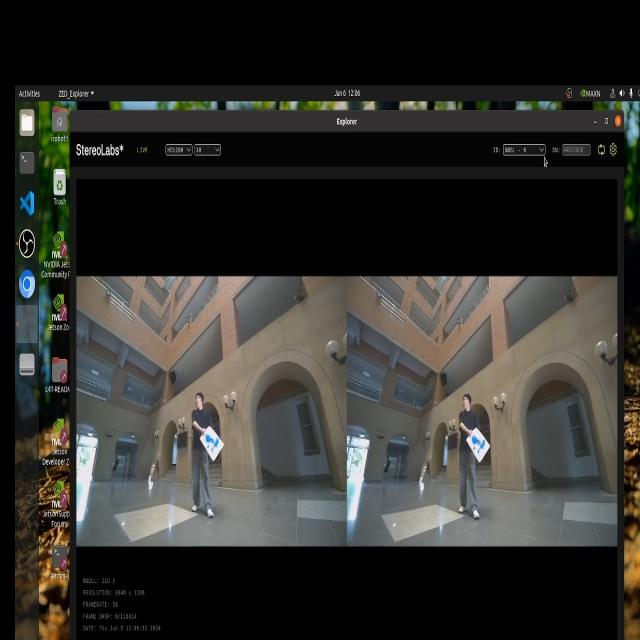blue: (202, 422, 228, 457), (465, 428, 483, 462)
